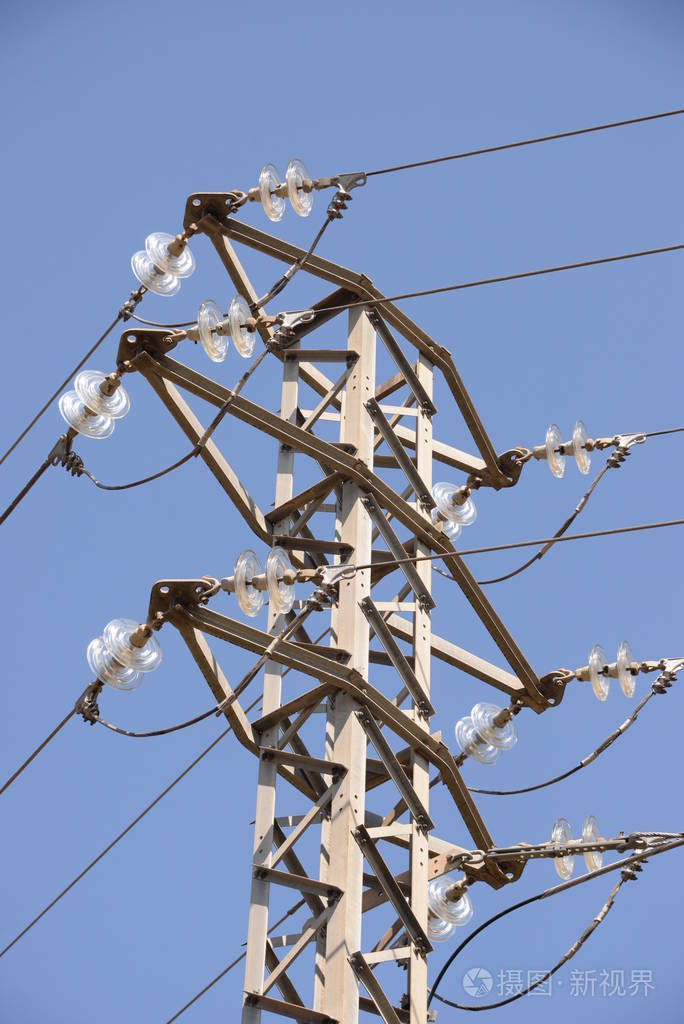insulator: (81, 614, 166, 692), (55, 366, 127, 436), (234, 543, 295, 622), (129, 230, 194, 295), (198, 295, 261, 362), (456, 697, 517, 764), (254, 158, 314, 222), (549, 818, 603, 881), (543, 419, 595, 482), (421, 879, 473, 942), (586, 642, 635, 701), (432, 473, 480, 529)
